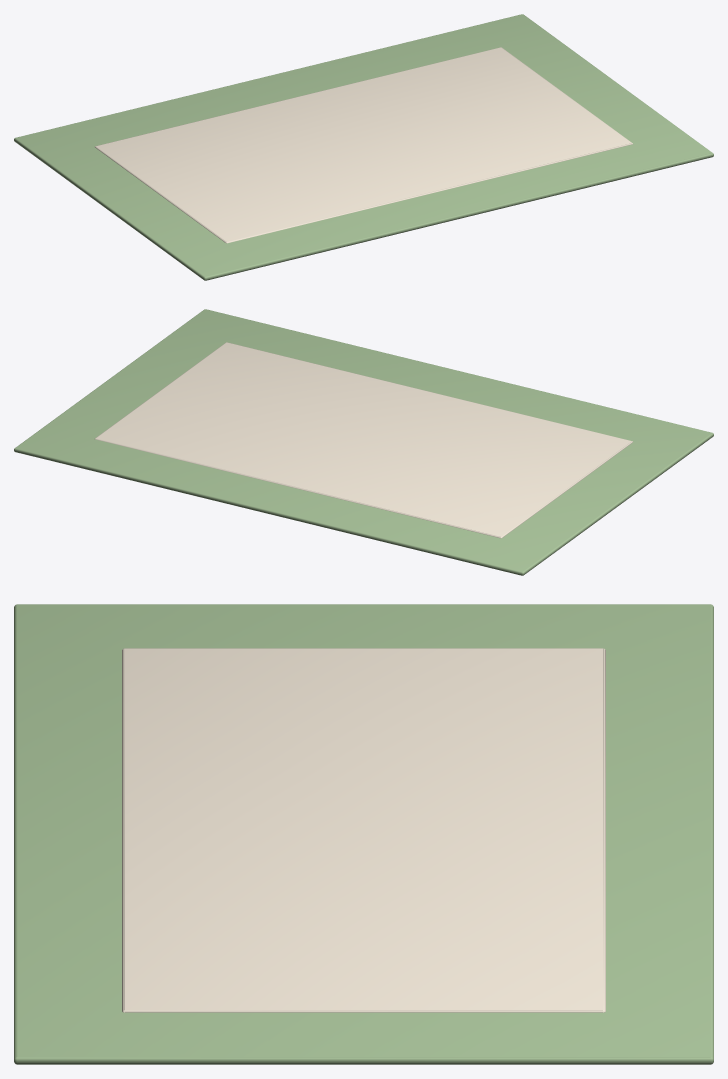
File: rug-rect.glb
3 renders of one model, top to bottom at view 1: azimuth 30°, elevation 25°; view 2: azimuth 150°, elevation 25°; view 3: azimuth 270°, elevation 25°, orthographic. The views are drawn at different scales.
Visible parts, largest first — view 1: rug-rect; view 2: rug-rect; view 3: rug-rect.
Boxes of the visible parts, x1,y1,x2,y2 form: rug-rect: (14,14,713,280); rug-rect: (14,309,713,575); rug-rect: (14,604,713,1064).
Bounding box in the file's own units: 2 × 0.0179 × 1.3.
